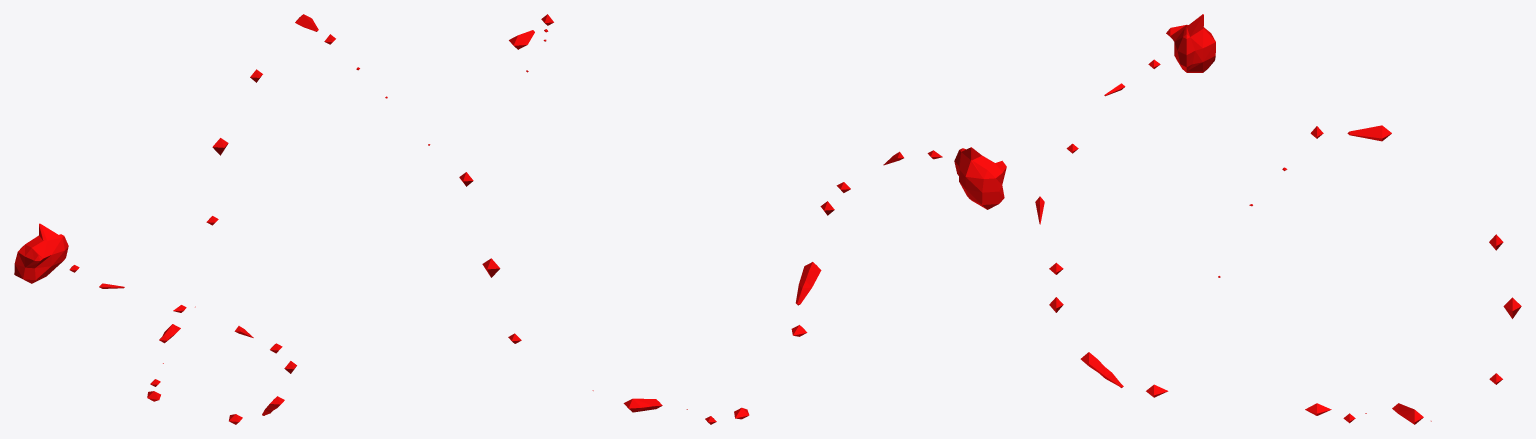
File: wzc_coarse.dae
3 views of the same model, side by side, from view 1: azimuth 30°, elevation 25°; view 2: azimuth 150°, elevation 25°; view 3: azimuth 270°, elevation 25° (orthographic). The views are drawn at different scales.
Visible parts, largest first — view 1: wzc; view 2: wzc; view 3: wzc.
Part boxes in pixels (x1,y1,x2,y2): wzc: [14, 14, 430, 424]; wzc: [459, 14, 1006, 424]; wzc: [1035, 14, 1521, 424].
Bounding box in the file's own units: 514 × 378 × 422.
